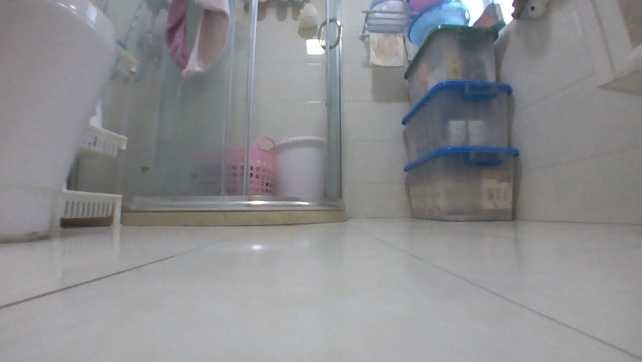toilet: (0, 0, 120, 241)
